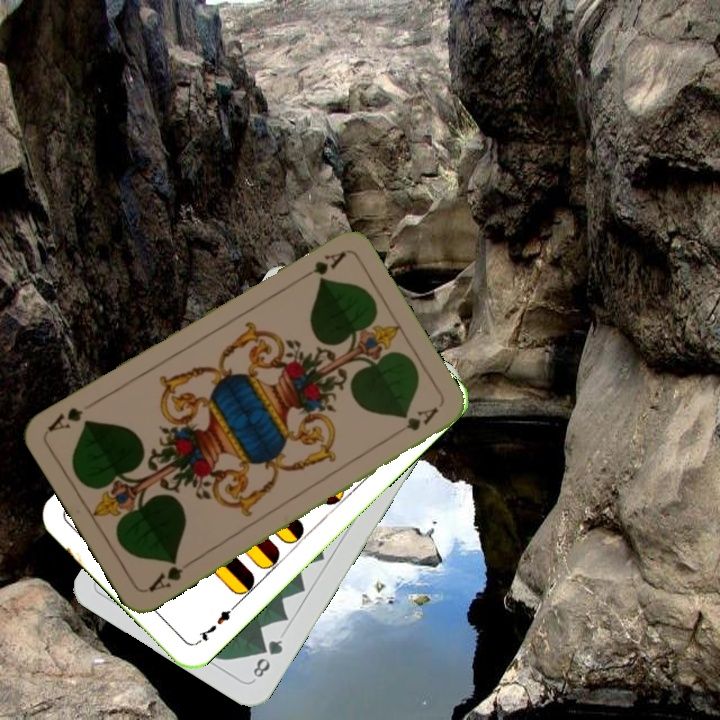E7: (192, 601, 238, 647)
G8: (248, 635, 286, 681)
GA: (294, 247, 348, 284), (144, 555, 186, 595)
